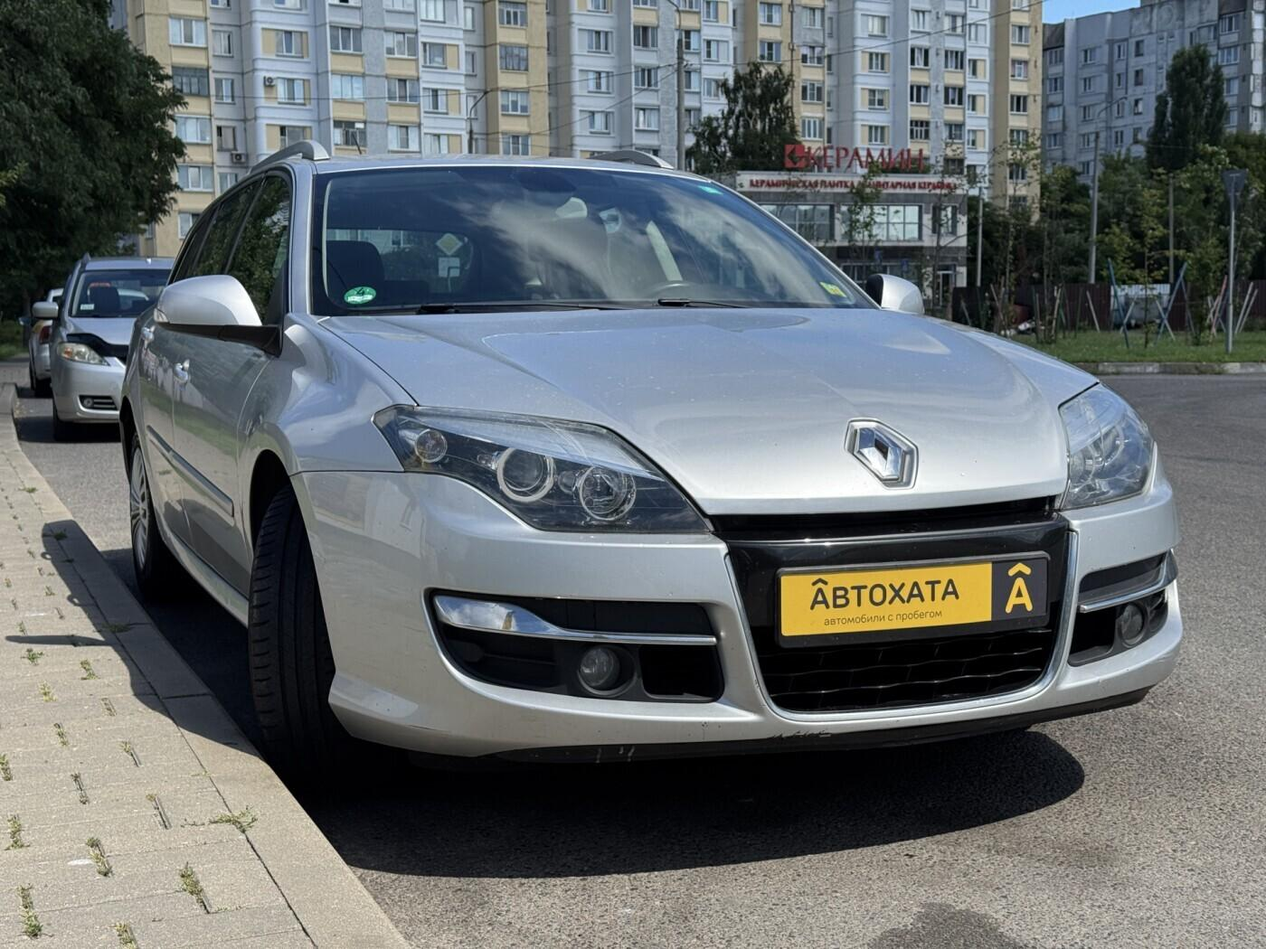Laguna_2010-2015: (121, 138, 1194, 802)
